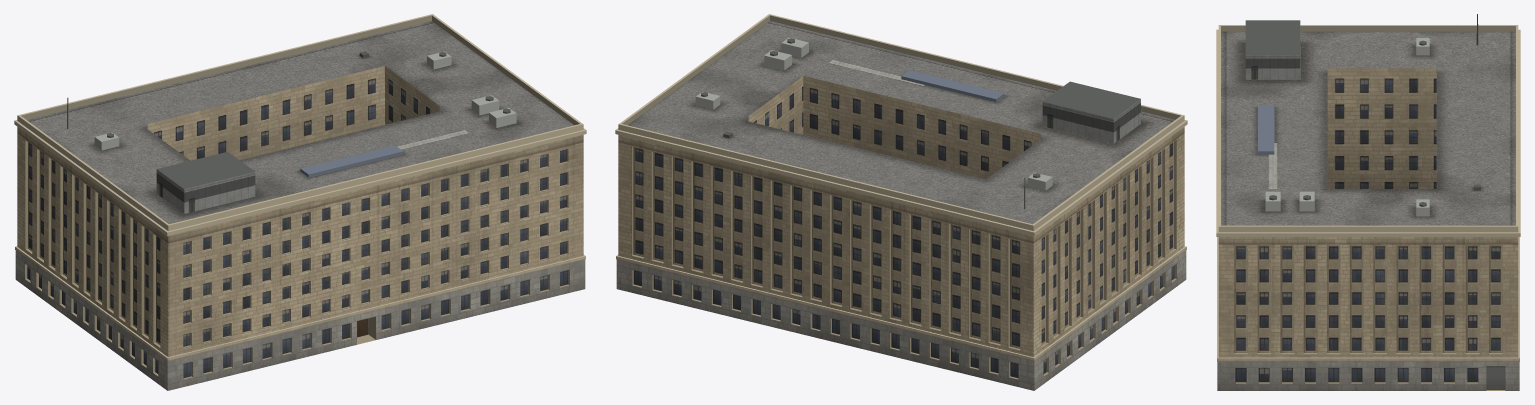
The model's file is dc_fed_plain_b.glb.
The picture shows the model from 3 angles, left to right: view 1: azimuth 30°, elevation 25°; view 2: azimuth 150°, elevation 25°; view 3: azimuth 270°, elevation 25°; orthographic projection.
Parts seen in each view (by area): view 1: dc_fed_plain_b; view 2: dc_fed_plain_b; view 3: dc_fed_plain_b.
Part boxes in pixels (x1,y1,x2,y2): dc_fed_plain_b: (14, 14, 586, 390); dc_fed_plain_b: (615, 14, 1187, 390); dc_fed_plain_b: (1216, 14, 1520, 390).
Size of the model in its own units: 70.7 by 30.6 by 44.7.
1 material, 1 textured.
